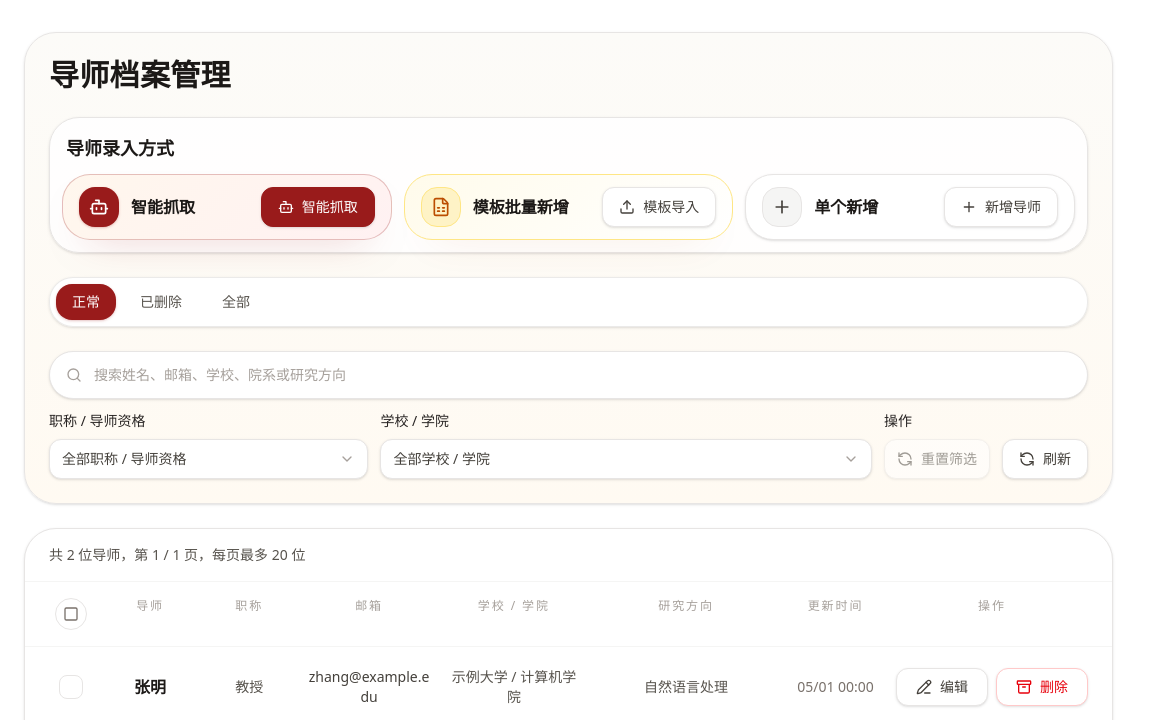
Scenario: selection controls › moves the management select-current-page action into the selection column header
Expected: the button "清空选择" is not shown
What coordinates should you click on to do the following:
click the button named "选择当前页筛选结果"
I would click on:
 (71, 614)
Its box is x1=55 y1=598 x2=87 y2=630.
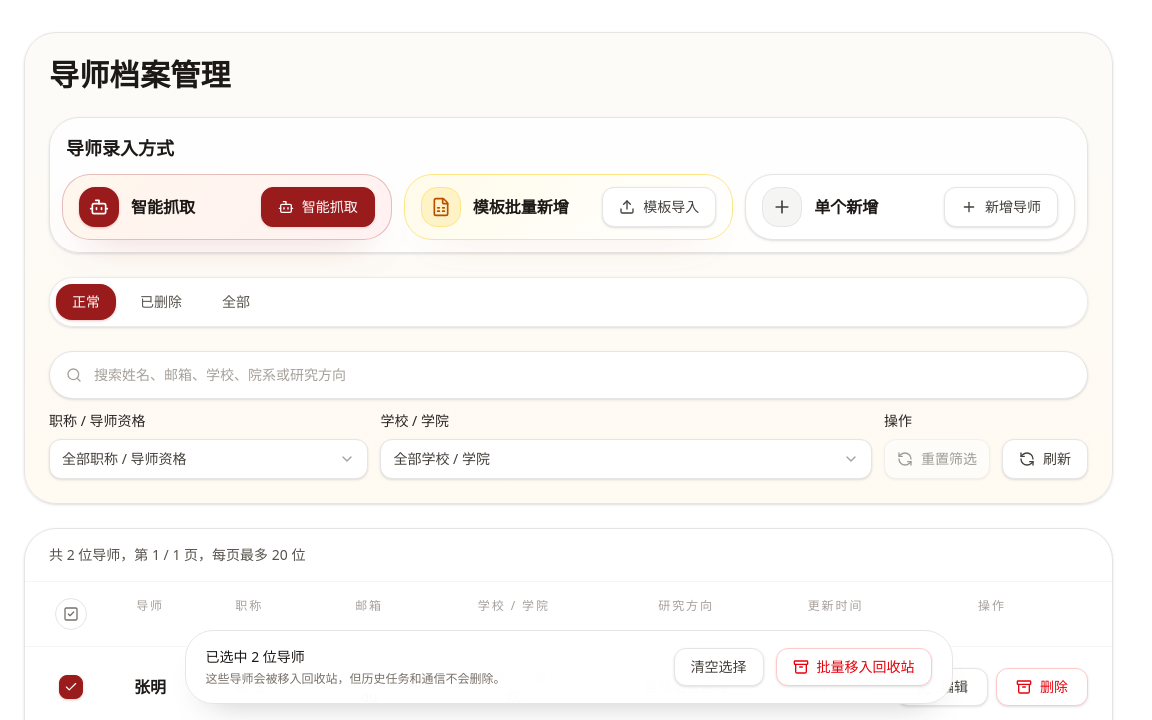
Result: the text "已选中 2 位导师" is shown at x1=206 y1=647 x2=305 y2=666
Result: the button "清空选择" is shown at x1=674 y1=648 x2=764 y2=686
